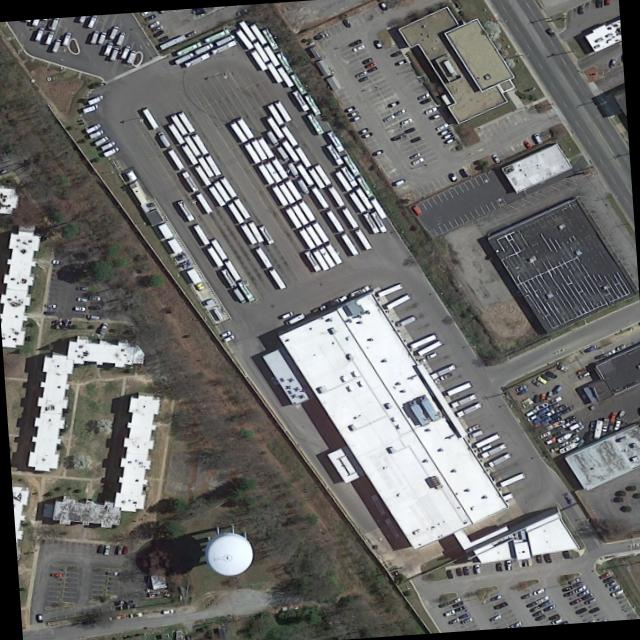large-vehicle: (182, 267, 205, 293), (324, 209, 344, 233), (309, 185, 328, 209), (294, 163, 313, 187), (264, 115, 283, 139), (353, 187, 372, 210), (339, 233, 358, 256), (353, 228, 372, 251), (323, 242, 342, 265), (280, 139, 299, 162), (303, 224, 322, 247), (192, 164, 211, 186), (347, 191, 366, 213), (234, 28, 253, 50), (429, 364, 455, 380), (455, 402, 481, 418), (384, 294, 410, 310), (175, 41, 201, 57), (355, 175, 373, 198), (256, 162, 274, 185), (297, 227, 315, 250), (297, 199, 315, 222), (283, 178, 301, 201), (270, 157, 288, 180), (266, 103, 284, 126), (479, 443, 506, 458), (409, 334, 436, 349), (498, 473, 525, 488), (416, 340, 441, 356), (237, 20, 256, 41), (361, 212, 379, 234), (369, 211, 387, 233), (291, 90, 309, 112), (275, 52, 293, 74), (288, 73, 306, 95), (239, 223, 257, 245), (253, 247, 271, 269), (267, 268, 285, 290), (311, 249, 329, 271), (242, 142, 260, 164), (270, 184, 288, 206), (226, 202, 244, 224), (212, 180, 230, 202), (194, 192, 212, 214), (176, 200, 194, 222), (205, 246, 223, 268), (209, 238, 227, 260), (222, 259, 240, 281), (236, 280, 254, 302), (166, 123, 184, 145), (207, 185, 225, 207), (317, 246, 335, 268), (307, 167, 325, 189), (313, 164, 331, 186), (326, 185, 344, 207), (340, 207, 358, 229), (251, 41, 269, 63), (249, 49, 267, 71), (248, 23, 266, 45), (310, 221, 328, 243), (290, 203, 308, 225), (276, 182, 294, 204), (263, 161, 281, 183), (273, 100, 291, 122), (141, 108, 159, 130), (284, 206, 301, 229), (256, 136, 273, 159), (445, 382, 471, 397), (376, 283, 402, 298), (210, 40, 236, 55), (325, 144, 343, 165), (339, 166, 357, 187), (341, 155, 359, 176), (325, 131, 343, 152), (232, 198, 250, 219), (190, 134, 208, 155), (229, 122, 247, 143), (182, 135, 200, 156), (180, 171, 198, 192), (180, 144, 198, 165), (169, 114, 187, 135), (235, 118, 253, 139), (204, 28, 229, 43), (474, 433, 499, 448), (306, 113, 323, 135), (303, 94, 320, 116), (177, 111, 194, 133), (246, 221, 263, 243), (303, 250, 320, 272), (196, 156, 213, 178), (167, 149, 184, 171), (192, 224, 209, 246), (276, 66, 293, 88), (334, 170, 351, 192), (293, 146, 310, 168), (250, 138, 266, 161), (450, 394, 476, 408), (369, 198, 386, 219), (219, 177, 236, 198), (265, 62, 282, 83), (262, 45, 279, 66), (280, 125, 297, 146), (261, 28, 277, 50), (204, 154, 220, 176), (184, 53, 209, 67), (219, 268, 236, 288), (486, 453, 510, 467), (258, 225, 274, 244), (193, 42, 214, 56), (173, 51, 194, 65), (348, 285, 369, 299), (153, 130, 170, 147), (214, 34, 234, 46), (328, 294, 348, 305), (310, 305, 326, 314)
ship: (555, 441, 580, 454), (554, 430, 573, 445), (532, 402, 548, 412)
small-vehicle: (393, 314, 416, 329), (284, 313, 306, 326), (264, 130, 279, 147), (101, 146, 120, 159), (295, 179, 310, 195), (275, 146, 290, 162), (285, 162, 299, 178), (92, 135, 109, 147), (99, 140, 116, 152), (86, 94, 104, 105), (81, 103, 99, 114), (124, 49, 137, 64), (113, 31, 126, 46), (84, 123, 101, 134), (87, 129, 104, 140), (107, 25, 119, 40), (49, 38, 61, 53), (101, 42, 113, 56), (32, 27, 44, 41), (119, 45, 130, 60), (60, 31, 71, 46), (43, 30, 54, 45), (492, 601, 508, 611), (108, 47, 119, 61), (88, 30, 99, 44), (96, 31, 106, 45), (389, 133, 406, 141), (220, 334, 235, 343), (530, 587, 545, 596), (467, 429, 482, 438), (553, 403, 568, 412), (547, 395, 562, 404), (539, 409, 554, 418), (582, 344, 597, 353), (370, 38, 382, 49), (532, 133, 543, 145), (568, 421, 581, 431), (543, 369, 556, 379), (600, 417, 608, 433), (279, 311, 293, 320), (575, 589, 589, 598), (573, 607, 587, 616), (477, 443, 491, 452), (535, 407, 549, 416), (466, 423, 480, 432), (347, 38, 361, 47), (351, 43, 365, 52), (410, 156, 424, 165), (435, 122, 449, 131), (417, 96, 431, 105), (149, 30, 164, 38), (569, 596, 581, 606), (488, 614, 501, 623), (536, 594, 549, 603), (550, 616, 563, 625), (541, 604, 554, 613), (538, 598, 551, 607), (437, 127, 450, 136), (523, 408, 536, 417), (145, 20, 159, 28), (609, 589, 623, 597), (601, 575, 615, 583), (529, 610, 543, 618), (369, 148, 383, 156), (358, 132, 372, 140), (576, 371, 590, 379), (98, 322, 108, 333), (377, 1, 388, 11), (551, 384, 562, 394), (184, 29, 196, 38), (439, 371, 451, 380), (400, 118, 412, 127), (606, 584, 619, 592), (583, 597, 596, 605), (573, 585, 586, 593), (580, 593, 593, 601), (547, 613, 560, 621), (345, 110, 358, 118), (382, 114, 395, 122), (417, 93, 430, 101), (424, 107, 437, 115), (542, 437, 555, 445), (560, 420, 573, 428), (514, 388, 527, 396), (440, 132, 453, 140), (443, 136, 456, 144), (539, 373, 552, 381), (340, 18, 350, 28), (572, 425, 583, 434), (142, 13, 156, 20), (148, 25, 162, 32), (459, 617, 473, 624), (554, 364, 568, 371), (513, 384, 527, 391), (489, 593, 501, 601), (598, 571, 610, 579), (587, 606, 599, 614), (450, 601, 462, 609), (524, 600, 536, 608), (443, 609, 455, 617), (447, 617, 459, 625), (448, 597, 460, 605), (363, 61, 375, 69), (425, 352, 437, 360), (537, 431, 549, 439), (539, 416, 551, 424), (603, 349, 615, 357), (529, 379, 541, 387), (156, 35, 169, 42), (456, 612, 469, 619), (528, 606, 541, 613), (360, 57, 373, 64), (386, 100, 399, 107), (347, 115, 360, 122), (427, 113, 440, 120), (591, 353, 604, 360), (457, 168, 466, 178), (491, 154, 501, 163), (545, 27, 555, 36), (604, 580, 615, 588), (542, 552, 550, 563), (102, 543, 110, 554), (561, 584, 572, 592), (520, 592, 531, 600), (448, 171, 456, 182), (357, 126, 368, 134), (51, 259, 65, 265), (567, 577, 579, 584), (571, 581, 583, 588), (559, 407, 571, 414), (453, 605, 465, 612), (436, 601, 448, 608), (357, 75, 369, 82), (388, 50, 400, 57), (402, 126, 414, 133), (409, 136, 421, 143), (354, 71, 366, 78), (393, 109, 405, 116), (567, 436, 579, 443), (612, 420, 620, 430), (535, 613, 545, 621), (394, 59, 407, 65), (547, 417, 560, 423), (219, 330, 230, 337), (505, 560, 512, 571), (548, 402, 559, 409), (344, 105, 355, 112), (614, 344, 625, 351), (75, 297, 87, 303), (609, 411, 615, 423), (587, 422, 595, 431), (550, 430, 562, 436), (548, 426, 560, 432), (544, 390, 552, 399), (562, 549, 569, 559), (524, 139, 531, 149), (563, 591, 574, 597), (445, 569, 451, 580), (548, 446, 559, 452), (366, 66, 377, 72), (409, 153, 420, 159), (526, 415, 537, 421), (557, 441, 568, 447), (535, 377, 546, 383), (86, 314, 99, 319), (121, 546, 128, 555), (88, 296, 100, 301), (43, 303, 55, 308), (473, 564, 479, 574), (161, 609, 173, 614), (564, 415, 574, 421), (41, 311, 55, 315), (577, 3, 582, 14), (454, 567, 460, 576), (496, 562, 502, 571), (534, 554, 540, 563), (97, 544, 103, 553), (538, 393, 544, 402), (609, 59, 615, 68), (75, 286, 88, 290), (50, 573, 63, 577), (74, 306, 84, 311), (115, 545, 120, 555), (87, 306, 99, 310), (37, 613, 43, 621), (417, 358, 426, 363), (463, 566, 468, 575), (594, 0, 600, 7), (0, 169, 5, 174), (604, 0, 608, 5)
storage-tank: (202, 532, 253, 578)
